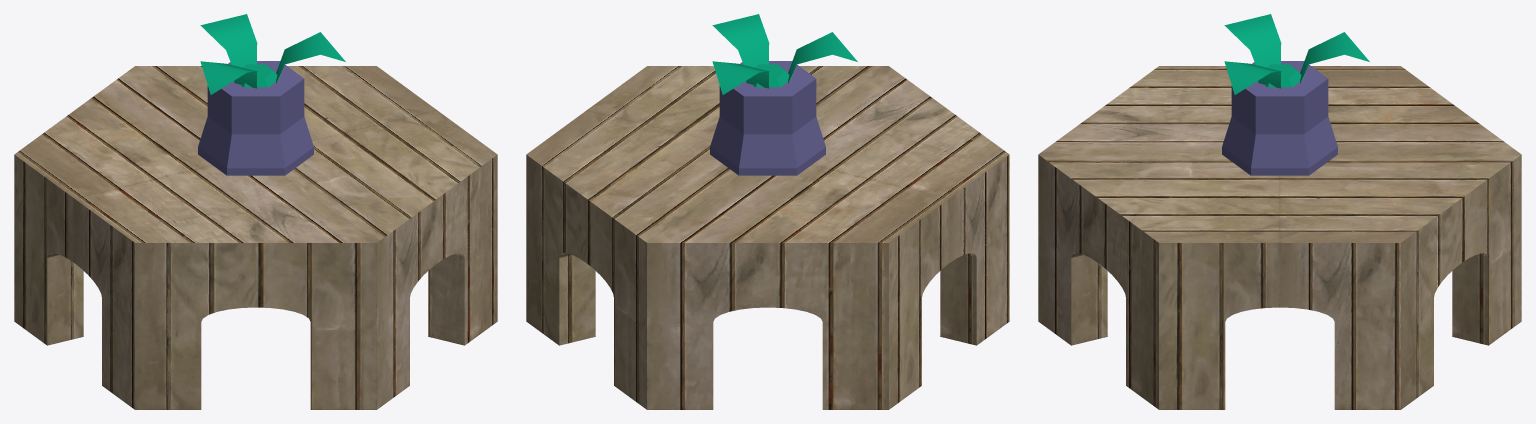
The model's file is PlanterTable.fbx.
The picture shows the model from 3 angles, left to right: view 1: azimuth 30°, elevation 25°; view 2: azimuth 150°, elevation 25°; view 3: azimuth 270°, elevation 25°; orthographic projection.
Parts seen in each view (by area): view 1: mergedBlocks; view 2: mergedBlocks; view 3: mergedBlocks.
Part boxes in pixels (left/top/right/bottom): mergedBlocks: left=14, top=14, right=497, bottom=409; mergedBlocks: left=526, top=14, right=1009, bottom=409; mergedBlocks: left=1038, top=14, right=1521, bottom=409.
Bounding box in the file's own units: 10 × 7.33 × 11.55.
